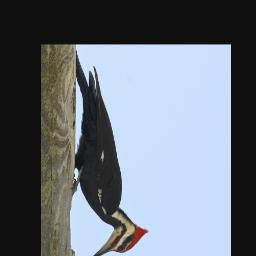Woodpecker: (73, 66, 152, 256)
